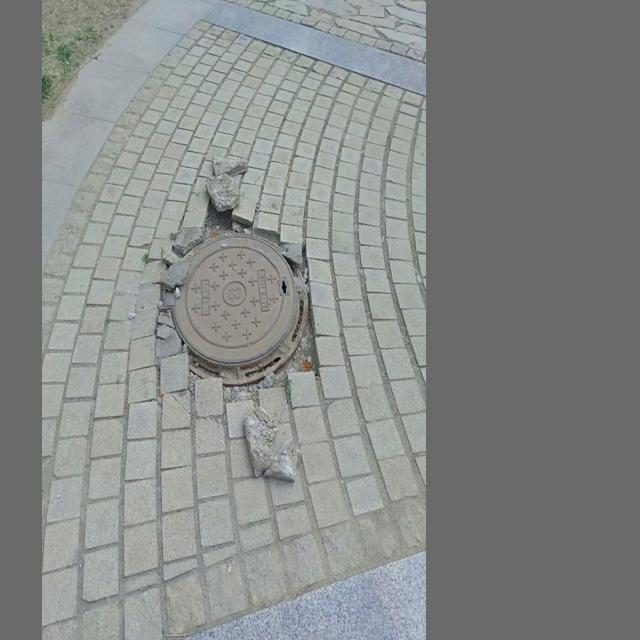circle: (135, 188, 334, 420)
